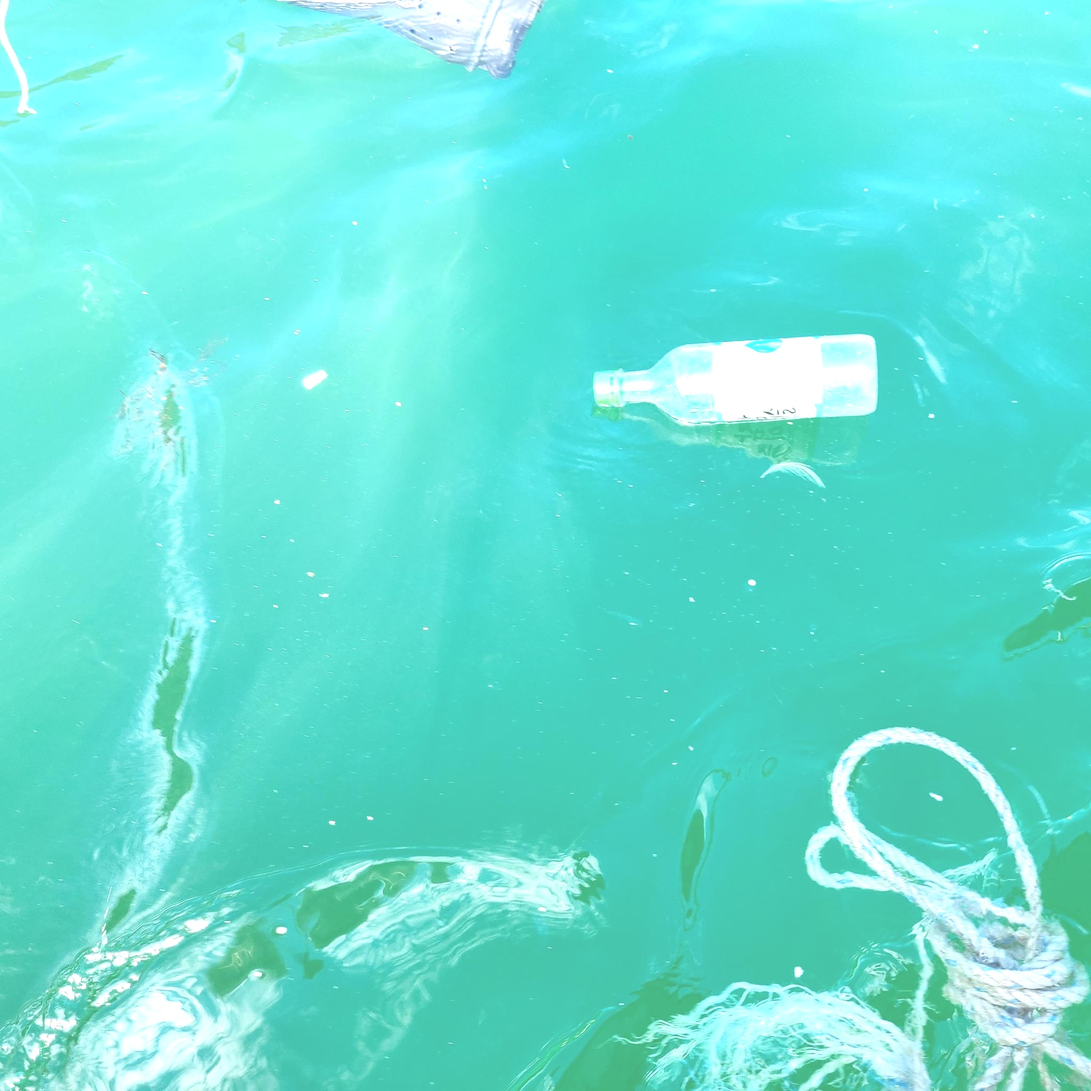sampah_terapung: (612, 727, 1091, 1091), (593, 335, 878, 423), (276, 1, 546, 80), (1, 1, 38, 114)
